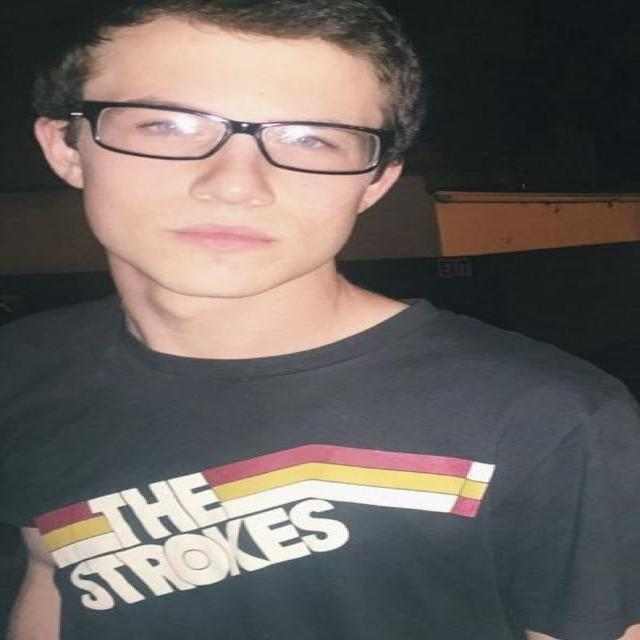glasses: (75, 98, 394, 176)
